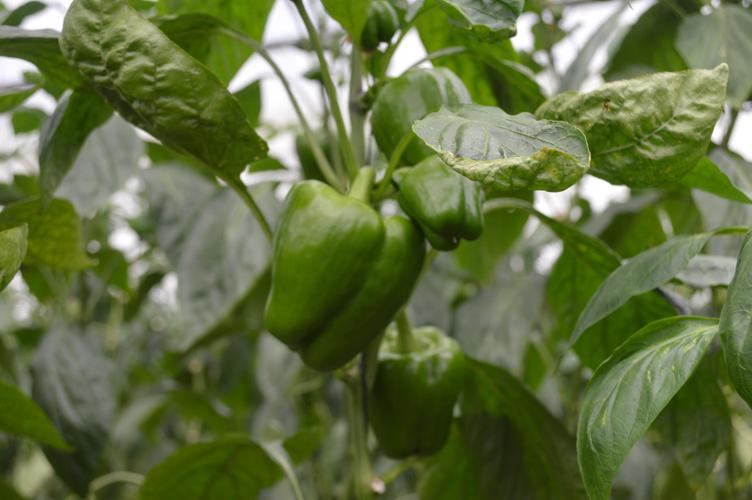BellPepper: (258, 178, 451, 373), (364, 80, 494, 252), (350, 337, 498, 477)
